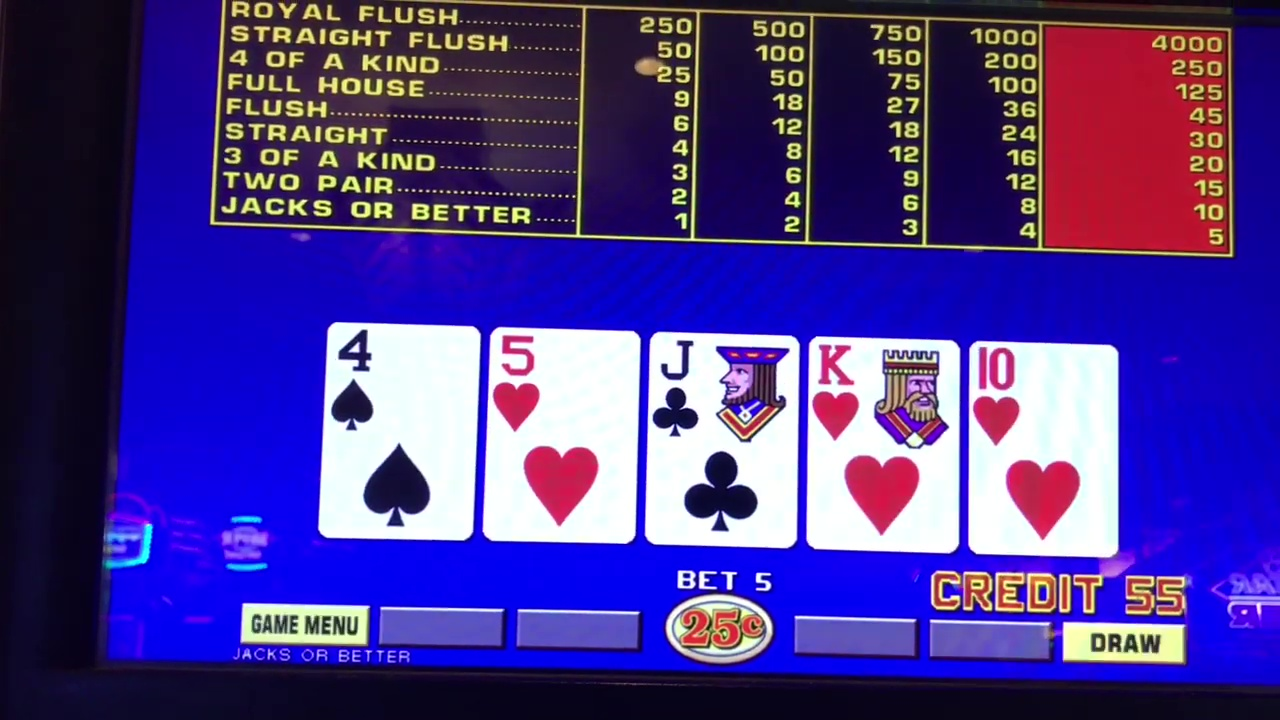CJ: (653, 334, 791, 546)
H5: (493, 329, 630, 543)
HK: (811, 337, 951, 555)
HT: (969, 344, 1114, 558)
S4: (331, 330, 467, 532)
